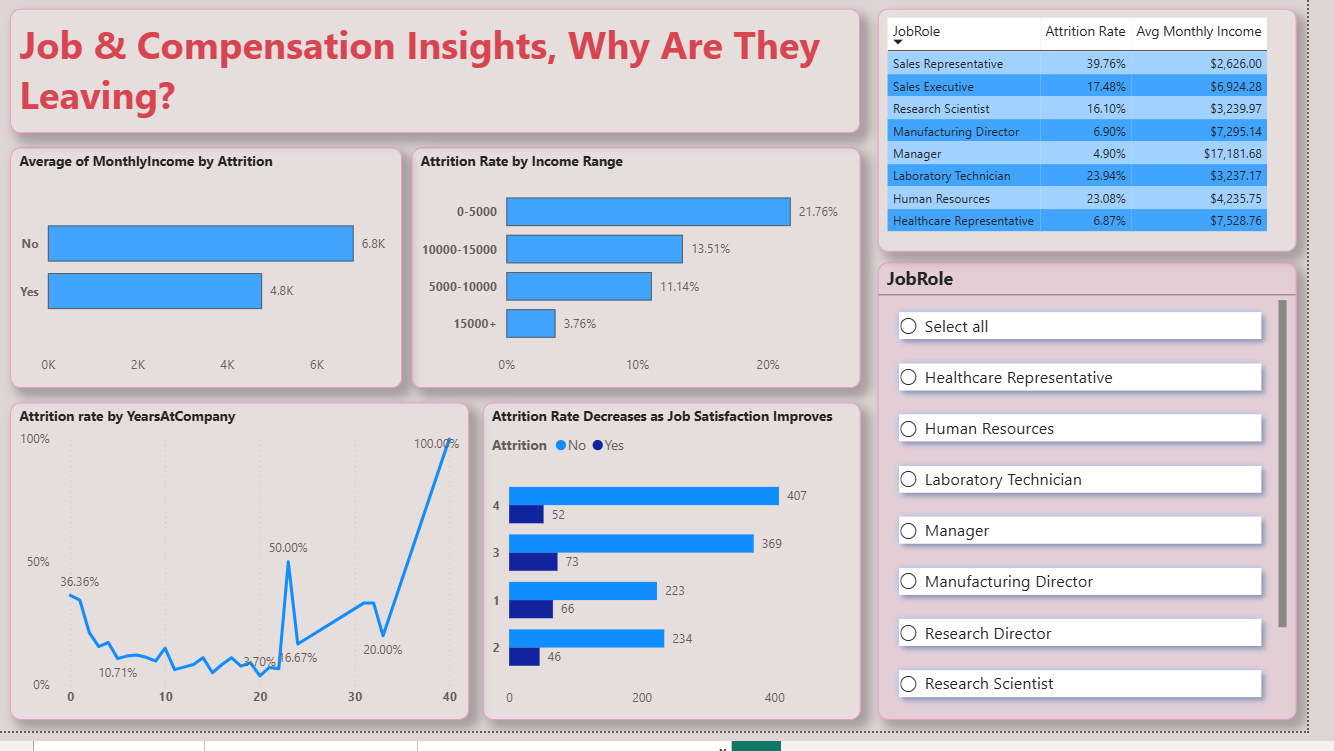

This screenshot's page, from the dashboard's own definition file:
{"tool":"powerbi","page":{"name":"Compensation & Performance Analysis","canvas":[1280,720],"ordinal":2},"visuals":[{"type":"barChart","fields":{"Category":["HR-Employee-Attrition.Attrition"],"Y":["Avg(HR-Employee-Attrition.MonthlyIncome)"]},"box":[11.2,149.3,383.1,235.1],"z":0},{"type":"barChart","fields":{"Category":["HR-Employee-Attrition.Income Range"],"Y":["HR-Employee-Attrition.Attrition Percentage"]},"box":[403,149.3,439.1,235.1],"z":1000},{"type":"clusteredBarChart","title":"Attrition Rate Decreases as Job Satisfaction Improves","fields":{"Category":["HR-Employee-Attrition.JobSatisfaction"],"Y":["HR-Employee-Attrition.Total Employees"],"Series":["HR-Employee-Attrition.Attrition"]},"box":[473.2,398.6,369.3,310.6],"z":2000},{"type":"lineChart","fields":{"Category":["HR-Employee-Attrition.YearsAtCompany"],"Y":["HR-Employee-Attrition.Attrition Percentage"]},"box":[11,398.6,448.8,310.6],"z":3000},{"type":"tableEx","fields":{"Values":["HR-Employee-Attrition.JobRole","HR-Employee-Attrition.Attrition Percentage","HR-Employee-Attrition.Avg Monthly Income"]},"box":[859.7,13.5,409.3,237.6],"z":4000},{"type":"listSlicer","fields":{"Values":["HR-Employee-Attrition.JobRole"]},"box":[859.7,261.7,409.6,447.6],"z":5000},{"type":"textbox","box":[11.2,13.7,831,121.9],"z":6000}]}

Visuals, with their boxes in screenshot pixels (x1, y1, x2, y2), scaled from the page's 1280x720 canvas onto the 1334x751 screenshot:
barChart - HR-Employee-Attrition.Attrition x Avg(HR-Employee-Attrition.MonthlyIncome): box(12, 156, 411, 401)
barChart - HR-Employee-Attrition.Income Range x HR-Employee-Attrition.Attrition Percentage: box(420, 156, 878, 401)
"Attrition Rate Decreases as Job Satisfaction Improves" clusteredBarChart: box(493, 416, 878, 740)
lineChart - HR-Employee-Attrition.YearsAtCompany x HR-Employee-Attrition.Attrition Percentage: box(11, 416, 479, 740)
tableEx - HR-Employee-Attrition.JobRole x HR-Employee-Attrition.Attrition Percentage: box(896, 14, 1323, 262)
listSlicer - HR-Employee-Attrition.JobRole: box(896, 273, 1323, 740)
textbox: box(12, 14, 878, 141)
